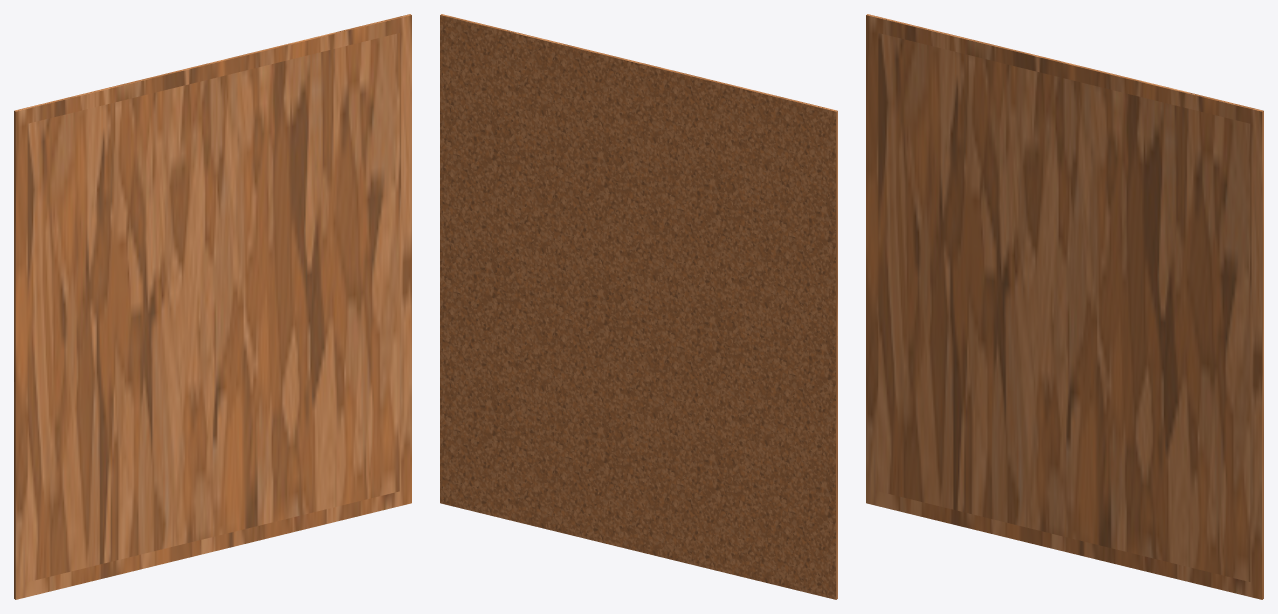
Rendered from board.obj.
3 views of the same model, side by side, from view 1: azimuth 30°, elevation 25°; view 2: azimuth 150°, elevation 25°; view 3: azimuth 330°, elevation 25° (orthographic).
Parts seen in each view (by area): view 1: Cube.004_Cube.005; view 2: Cube.004_Cube.005; view 3: Cube.004_Cube.005.
Boxes of the visible parts, x1,y1,x2,y2 form: Cube.004_Cube.005: (14,14,411,599); Cube.004_Cube.005: (440,14,837,599); Cube.004_Cube.005: (866,14,1263,599).
Size of the model in its own units: 12.13 by 14.29 by 0.0891.
